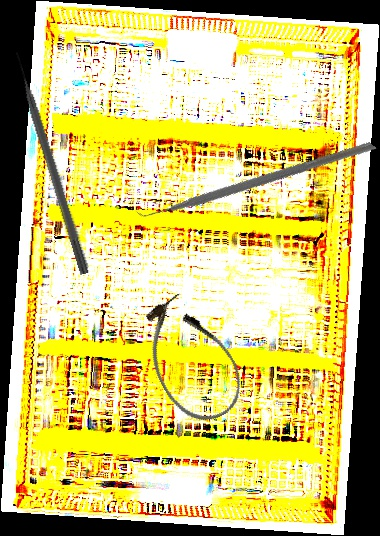Cannula: (127, 285, 255, 434)
Chopper: (124, 46, 378, 305)
Pusher: (11, 49, 93, 276)
